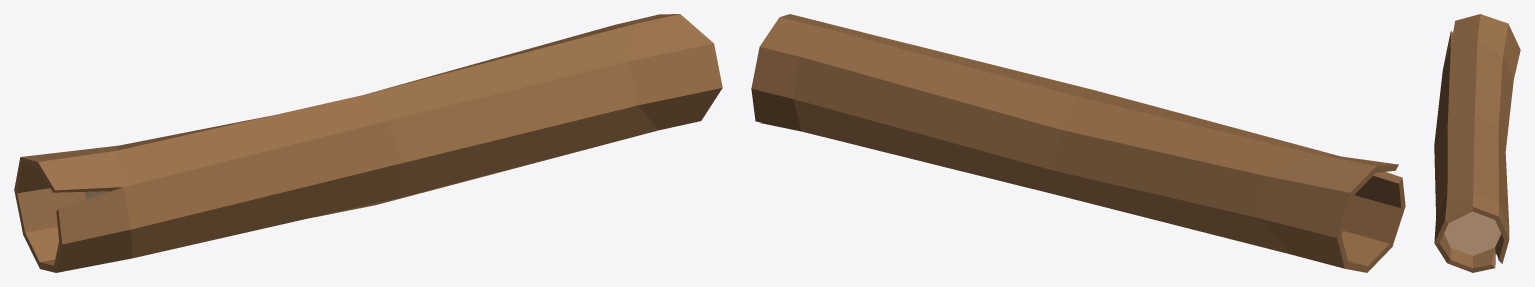
Rendered from Pine_Log_07_LOD.fbx.
3 views of the same model, side by side, from view 1: azimuth 30°, elevation 25°; view 2: azimuth 150°, elevation 25°; view 3: azimuth 270°, elevation 25° (orthographic). The views are drawn at different scales.
Visible parts, largest first — view 1: Pine_Log_07_LOD0; view 2: Pine_Log_07_LOD0; view 3: Pine_Log_07_LOD0.
Part boxes in pixels (bbox=[...]): Pine_Log_07_LOD0: bbox=[14, 14, 722, 272]; Pine_Log_07_LOD0: bbox=[751, 14, 1405, 272]; Pine_Log_07_LOD0: bbox=[1434, 14, 1520, 272].
Size of what is drawn, in the model's own units: 249 by 41.45 by 46.45.
